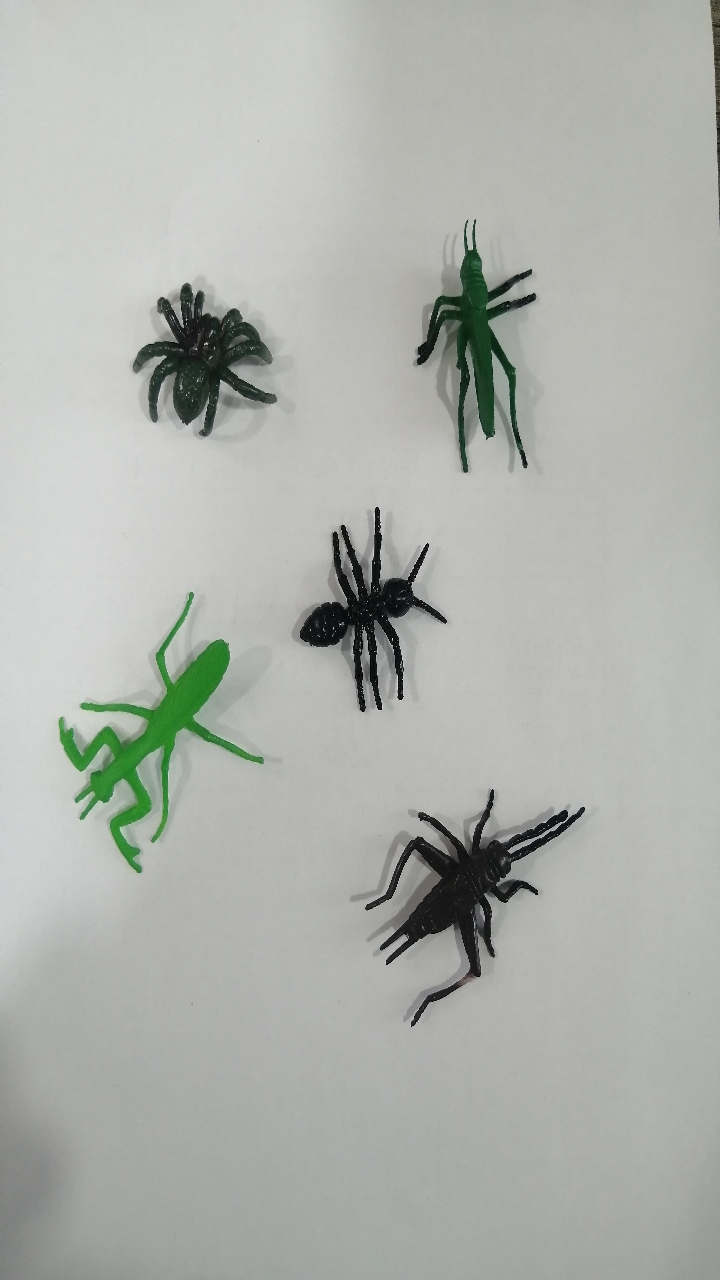intruso: (28, 563, 280, 895), (338, 762, 618, 1051), (386, 217, 577, 505), (280, 486, 466, 751), (97, 255, 292, 468)
